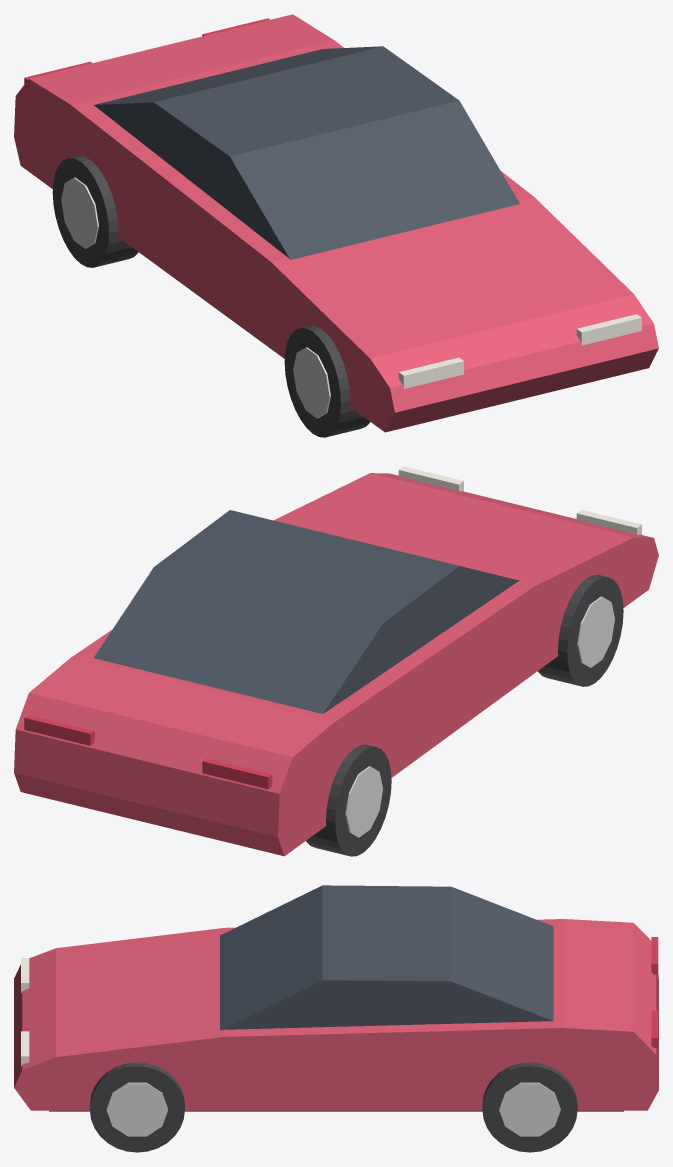
The model's file is vehicule_test.glb.
The picture shows the model from 3 angles, top to bottom: view 1: azimuth 30°, elevation 25°; view 2: azimuth 150°, elevation 25°; view 3: azimuth 270°, elevation 25°; orthographic projection. The views are drawn at different scales.
Parts seen in each view (by area): view 1: caisse, habitacle, pneu_avant_droite, pneu_arriere_droite, jante_arriere_droite, jante_avant_droite, phare_gauche, phare_droite; view 2: caisse, habitacle, pneu_arriere_droite, pneu_avant_droite, jante_arriere_droite, jante_avant_droite, feu_droite, feu_gauche, phare_gauche, phare_droite; view 3: caisse, habitacle, pneu_avant_gauche, pneu_arriere_gauche, jante_avant_gauche, jante_arriere_gauche, soubassement.
Boxes of the visible parts, left/top/right/bottom form: caisse: left=14, top=14, right=658, bottom=432; habitacle: left=94, top=46, right=519, bottom=259; pneu_avant_droite: left=284, top=325, right=369, bottom=437; pneu_arriere_droite: left=52, top=155, right=138, bottom=267; jante_arriere_droite: left=61, top=177, right=98, bottom=248; jante_avant_droite: left=293, top=347, right=330, bottom=418; phare_gauche: left=576, top=314, right=641, bottom=345; phare_droite: left=398, top=357, right=463, bottom=388; caisse: left=14, top=473, right=658, bottom=856; habitacle: left=94, top=510, right=519, bottom=713; pneu_arriere_droite: left=306, top=744, right=391, bottom=856; pneu_avant_droite: left=538, top=574, right=623, bottom=686; jante_arriere_droite: left=345, top=766, right=382, bottom=837; jante_avant_droite: left=577, top=596, right=614, bottom=667; feu_droite: left=202, top=758, right=272, bottom=789; feu_gauche: left=24, top=715, right=94, bottom=745; phare_gauche: left=398, top=466, right=463, bottom=491; phare_droite: left=576, top=510, right=641, bottom=534; caisse: left=14, top=919, right=658, bottom=1110; habitacle: left=220, top=885, right=553, bottom=1030; pneu_avant_gauche: left=89, top=1062, right=184, bottom=1152; pneu_arriere_gauche: left=482, top=1062, right=577, bottom=1152; jante_avant_gauche: left=106, top=1082, right=168, bottom=1136; jante_arriere_gauche: left=499, top=1082, right=560, bottom=1136; soubassement: left=49, top=1110, right=623, bottom=1111.
Size of the model in its own units: 1.99 by 1.27 by 4.6.
